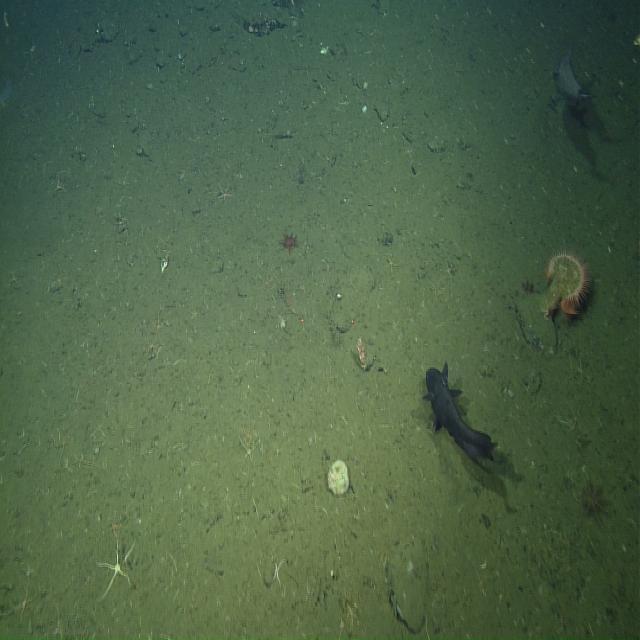Brittle Star: (94, 532, 139, 603), (10, 583, 35, 625), (268, 552, 288, 596), (214, 181, 234, 207)
Not Brittle Star: (422, 355, 502, 474), (539, 242, 593, 326), (577, 471, 615, 529), (278, 226, 300, 256)
